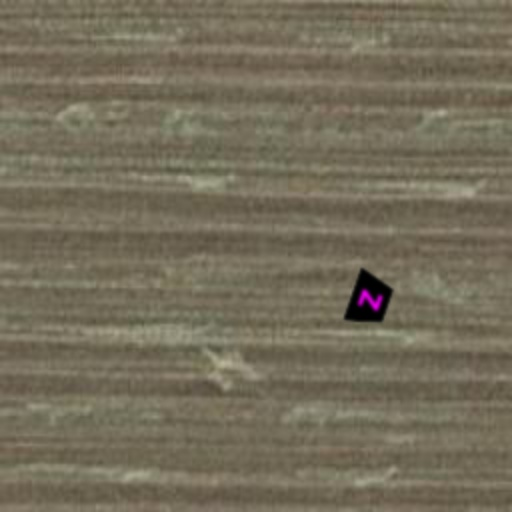trapezoid: (332, 262, 408, 338)
